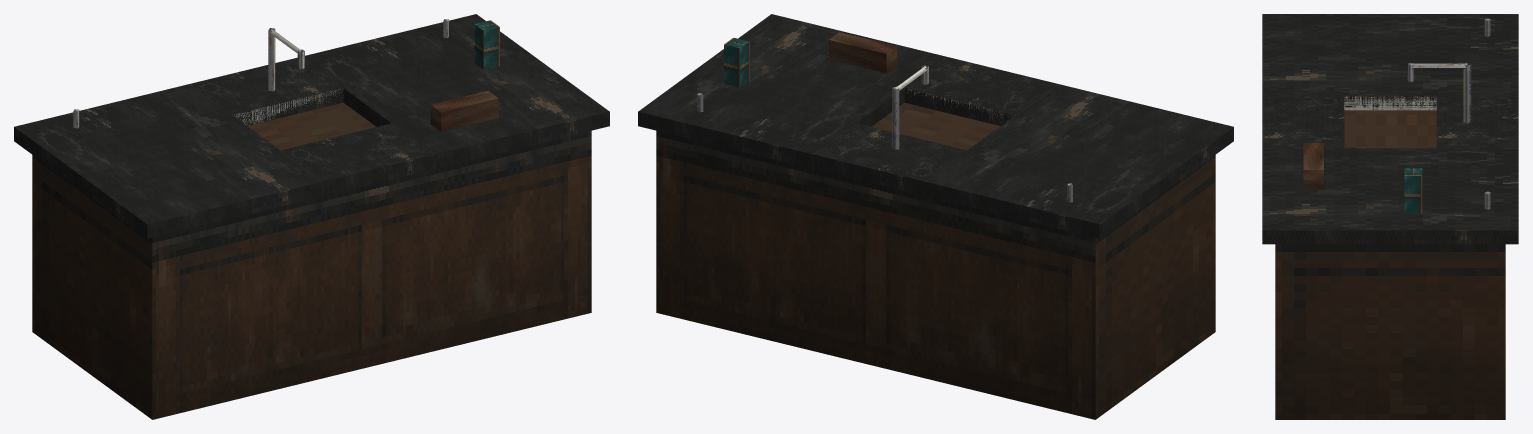
File: prop_labbench-1.glb
3 renders of one model, left to right at view 1: azimuth 30°, elevation 25°; view 2: azimuth 150°, elevation 25°; view 3: azimuth 270°, elevation 25°, orthographic. The views are drawn at different scales.
Parts seen in each view (by area): view 1: prop_labbench-1; view 2: prop_labbench-1; view 3: prop_labbench-1.
Boxes of the visible parts, x1,y1,x2,y2 form: prop_labbench-1: [14, 14, 609, 419]; prop_labbench-1: [638, 14, 1233, 419]; prop_labbench-1: [1262, 14, 1518, 419].
Size of the model in its own units: 2 by 1.09 by 1.
Materials: 4 (4 with a texture image).
